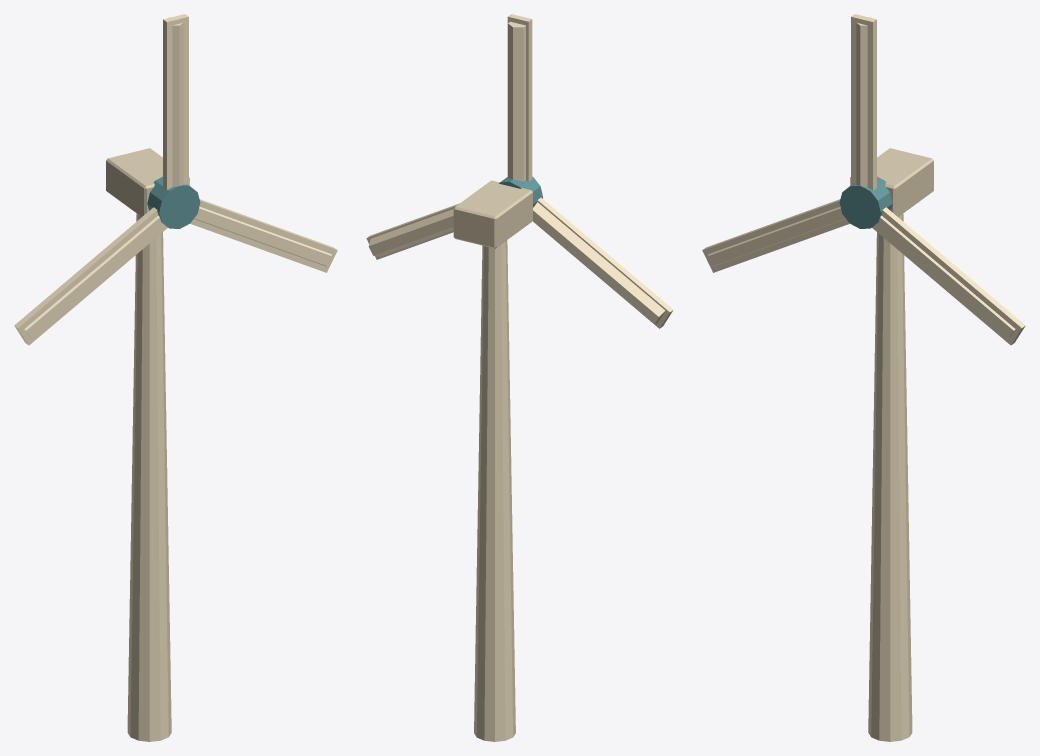
The model's file is hsinchu_wind_turbine_v2.glb.
3 renders of one model, left to right at view 1: azimuth 30°, elevation 25°; view 2: azimuth 150°, elevation 25°; view 3: azimuth 330°, elevation 25°, orthographic. The views are drawn at different scales.
Visible parts, largest first — view 1: hsinchu_wind_turbine_v2__hsinchu-pale-trim, hsinchu_wind_turbine_v2__hsinchu-warm-concrete, hsinchu_wind_turbine_v2__hsinchu-teal; view 2: hsinchu_wind_turbine_v2__hsinchu-pale-trim, hsinchu_wind_turbine_v2__hsinchu-warm-concrete; view 3: hsinchu_wind_turbine_v2__hsinchu-pale-trim, hsinchu_wind_turbine_v2__hsinchu-warm-concrete, hsinchu_wind_turbine_v2__hsinchu-teal.
Boxes of the visible parts, x1,y1,x2,y2 form: hsinchu_wind_turbine_v2__hsinchu-pale-trim: (14, 14, 337, 741); hsinchu_wind_turbine_v2__hsinchu-warm-concrete: (106, 148, 189, 216); hsinchu_wind_turbine_v2__hsinchu-teal: (147, 176, 200, 228); hsinchu_wind_turbine_v2__hsinchu-pale-trim: (366, 14, 673, 741); hsinchu_wind_turbine_v2__hsinchu-warm-concrete: (453, 180, 532, 248); hsinchu_wind_turbine_v2__hsinchu-pale-trim: (702, 14, 1025, 741); hsinchu_wind_turbine_v2__hsinchu-warm-concrete: (850, 148, 933, 216); hsinchu_wind_turbine_v2__hsinchu-teal: (839, 176, 892, 228).
Size of the model in its own units: 41.51 by 91.02 by 11.66.
